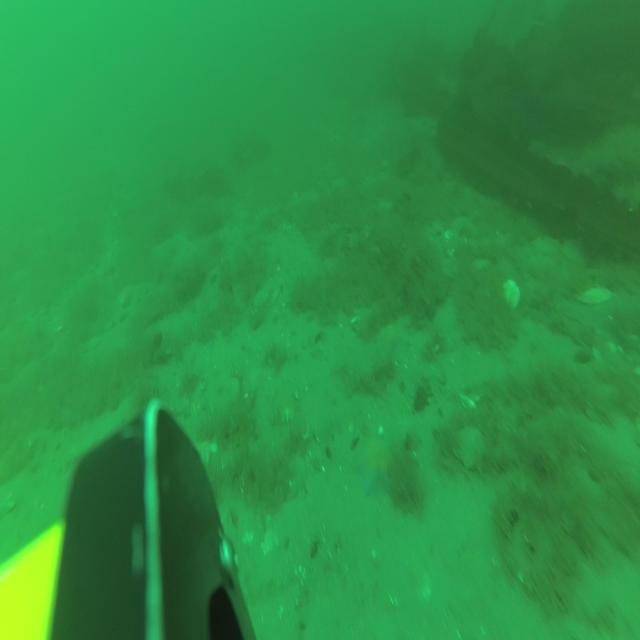scallop: (454, 425, 486, 470), (577, 283, 613, 303), (502, 275, 521, 309)
starfish: (356, 449, 394, 495), (376, 318, 408, 352)
